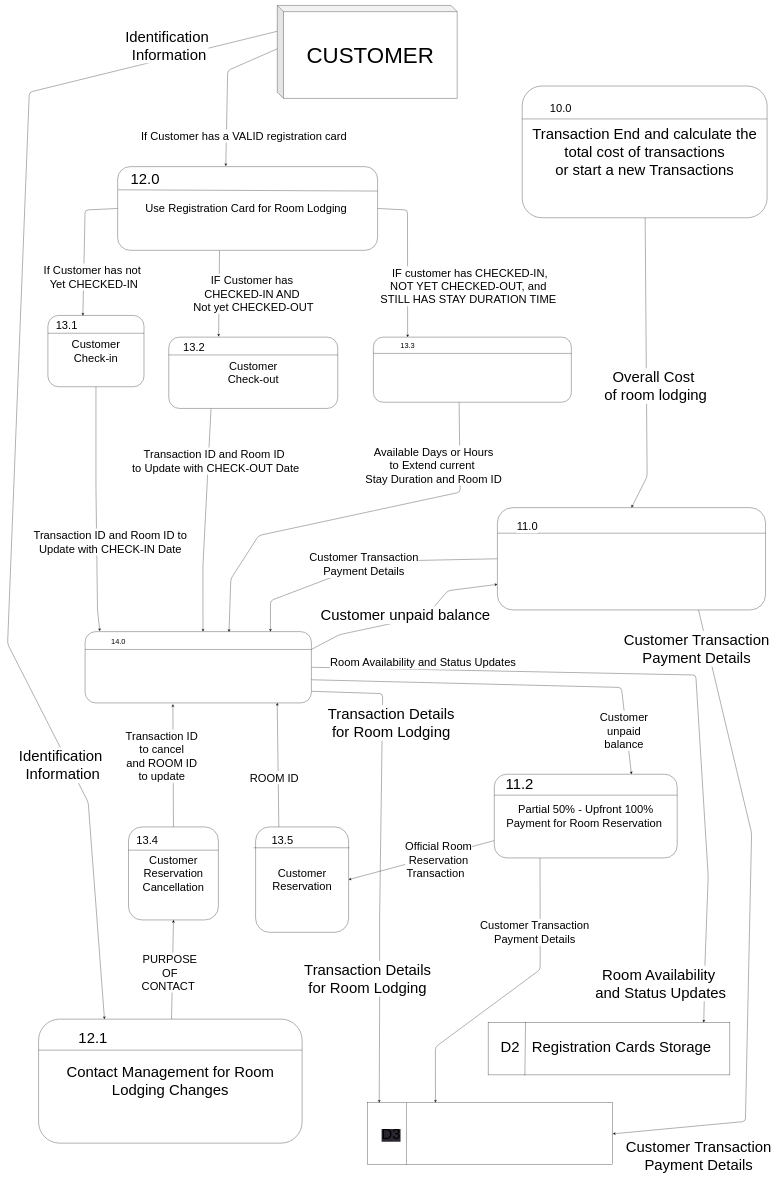
Some shapes in this 777 by 1179 pixel diagram are drawn without their labels. Here are the shapes that lost their labels. From the top down, the centre of each, then its label:
At point (472, 369): "Customer Room Stay Duration Extention".
At point (631, 558): "Full Payment of Room Lodging Direct-Check-in".
At point (198, 667): "Management Verification and Rooms Status Update".
At point (490, 1134): "Transaction Logs".
